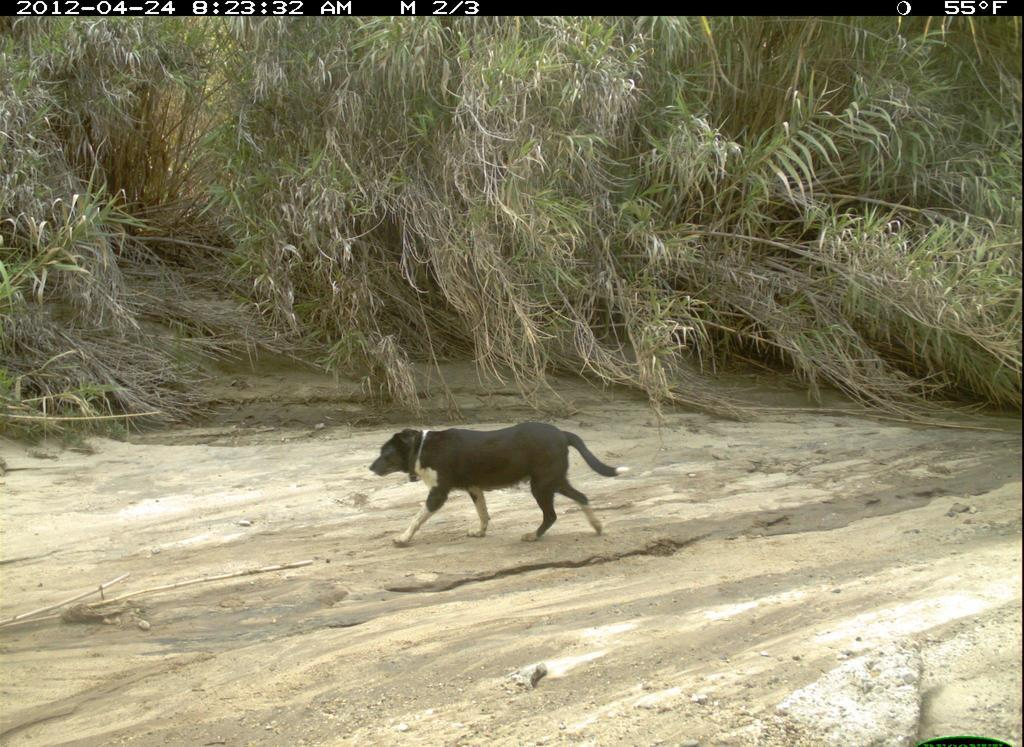dog: (369, 417, 637, 555)
